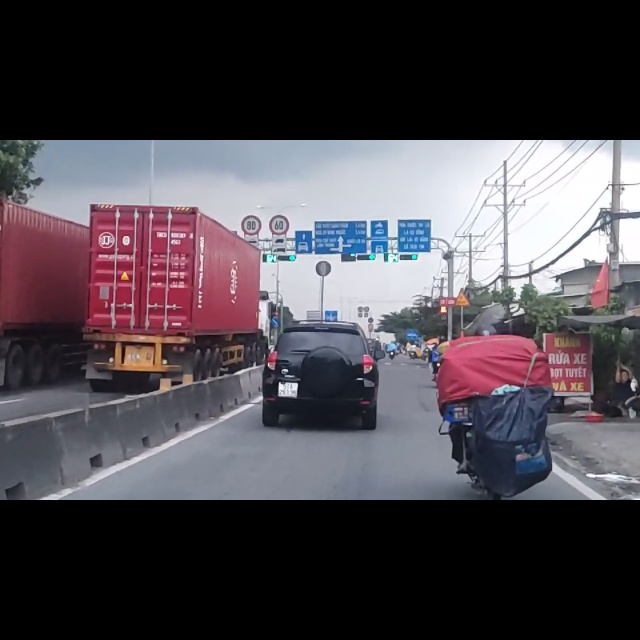bien_nguy_hiem: (241, 130, 263, 173), (269, 130, 291, 169), (455, 264, 471, 295), (271, 315, 280, 333)
